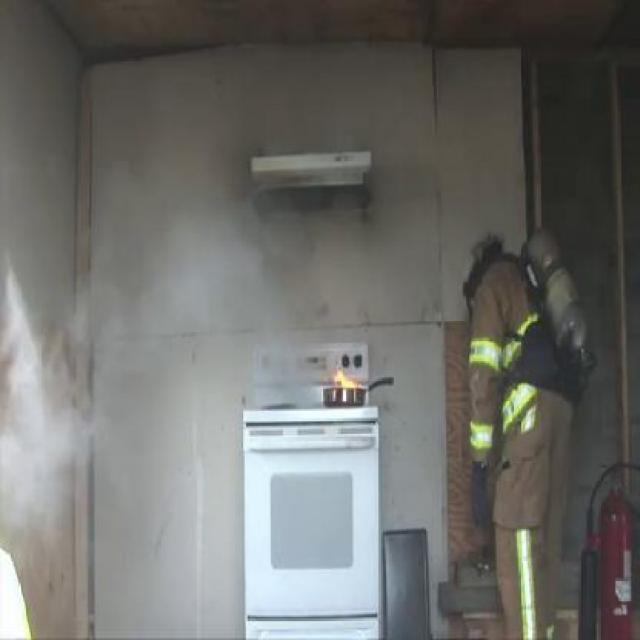fire: (334, 370, 368, 388)
smoke: (6, 275, 96, 560)
